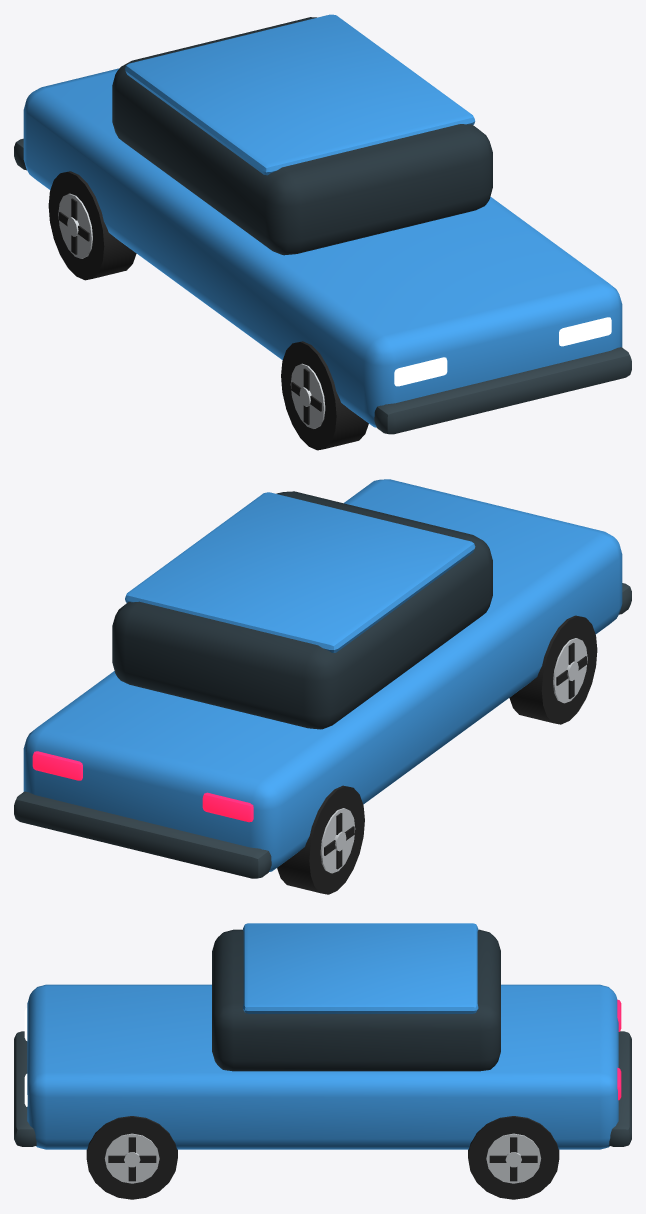
File: sedan.glb
The picture shows the model from 3 angles, top to bottom: view 1: azimuth 30°, elevation 25°; view 2: azimuth 150°, elevation 25°; view 3: azimuth 270°, elevation 25°; orthographic projection. The views are drawn at different scales.
Parts seen in each view (by area): view 1: Sedan_body, Wheel_FR.001, Wheel_RR.001; view 2: Sedan_body, Wheel_FR.001, Wheel_RR.001; view 3: Sedan_body, Wheel_FL.001, Wheel_RL.001.
Boxes of the visible parts, x1,y1,x2,y2 form: Sedan_body: (14, 14, 631, 434); Wheel_FR.001: (281, 341, 368, 450); Wheel_RR.001: (48, 171, 136, 280); Sedan_body: (14, 479, 631, 878); Wheel_FR.001: (509, 615, 597, 724); Wheel_RR.001: (277, 785, 364, 894); Sedan_body: (14, 923, 631, 1149); Wheel_FL.001: (86, 1116, 177, 1199); Wheel_RL.001: (468, 1116, 559, 1199).
Bounding box in the file's own units: 1.9 × 1.51 × 4.6.
